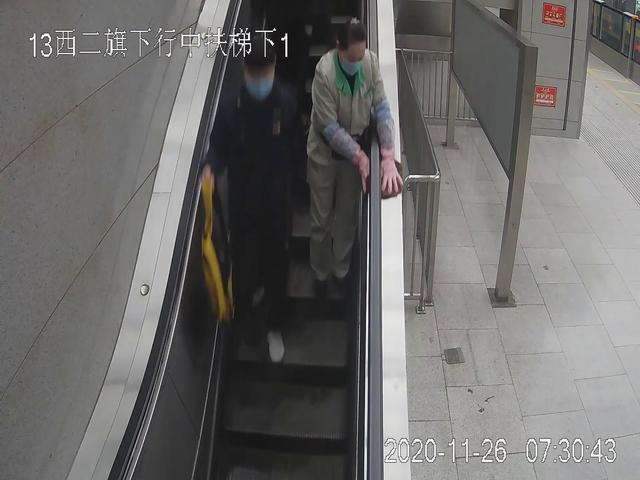person: (201, 39, 299, 363), (307, 18, 402, 298)
